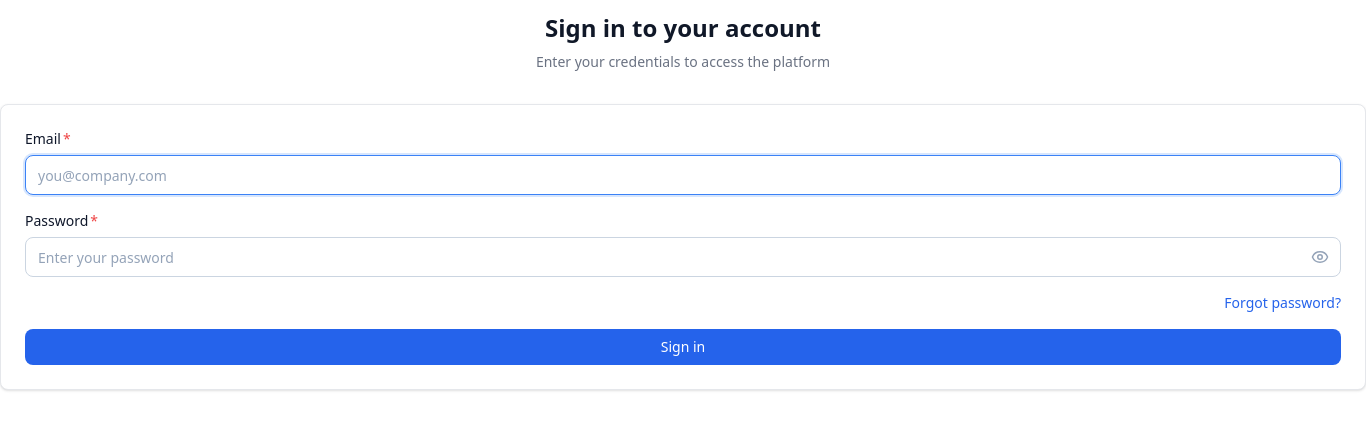
Scenario: LoginPage › shows validation error for invalid email format
In the field labelled "Email*": (683, 175) [25,155,1341,195], type "not-an-email"
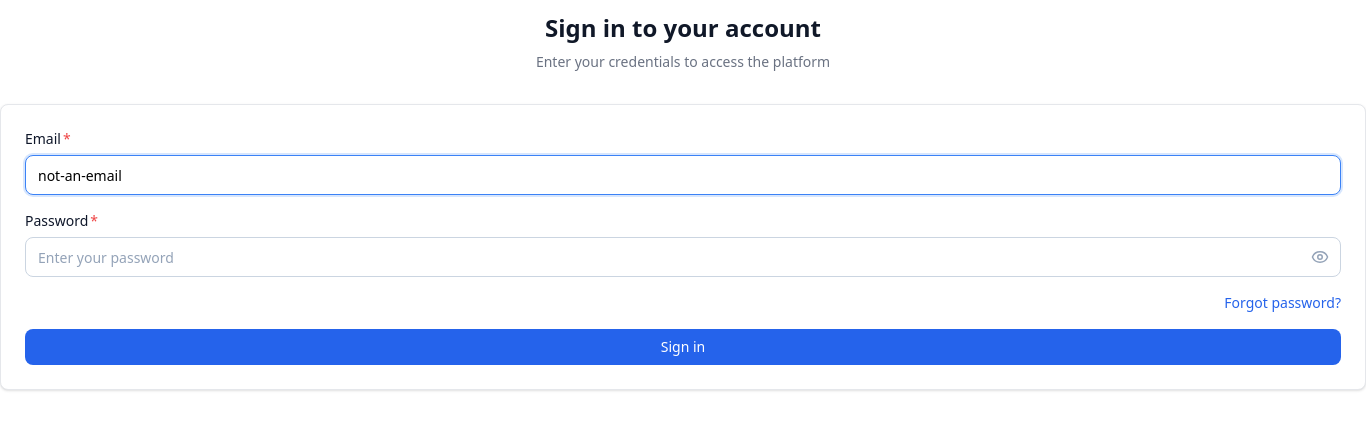
In the password field labelled "Password*": (683, 257) [25,237,1341,277], type "somepassword"
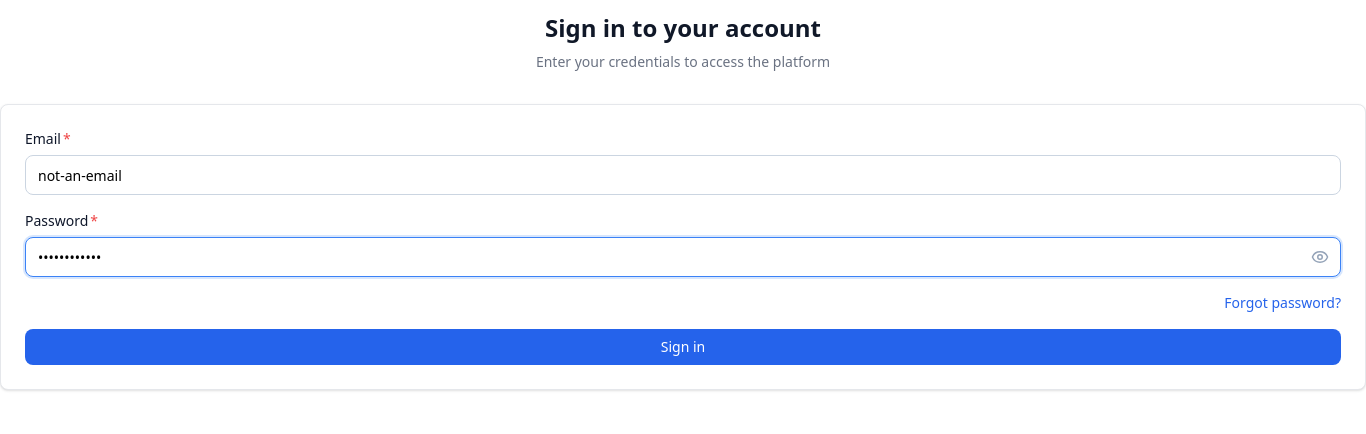
Click the button "Sign in": click(683, 347) [25,329,1341,365]
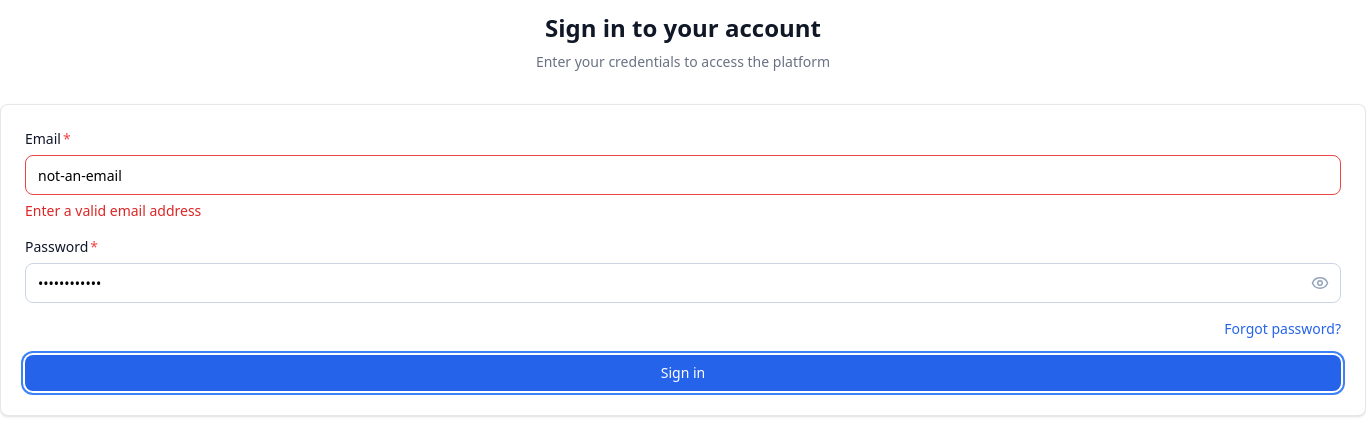
Now the text "Enter a valid email address" is shown, box [25,201,201,220]
